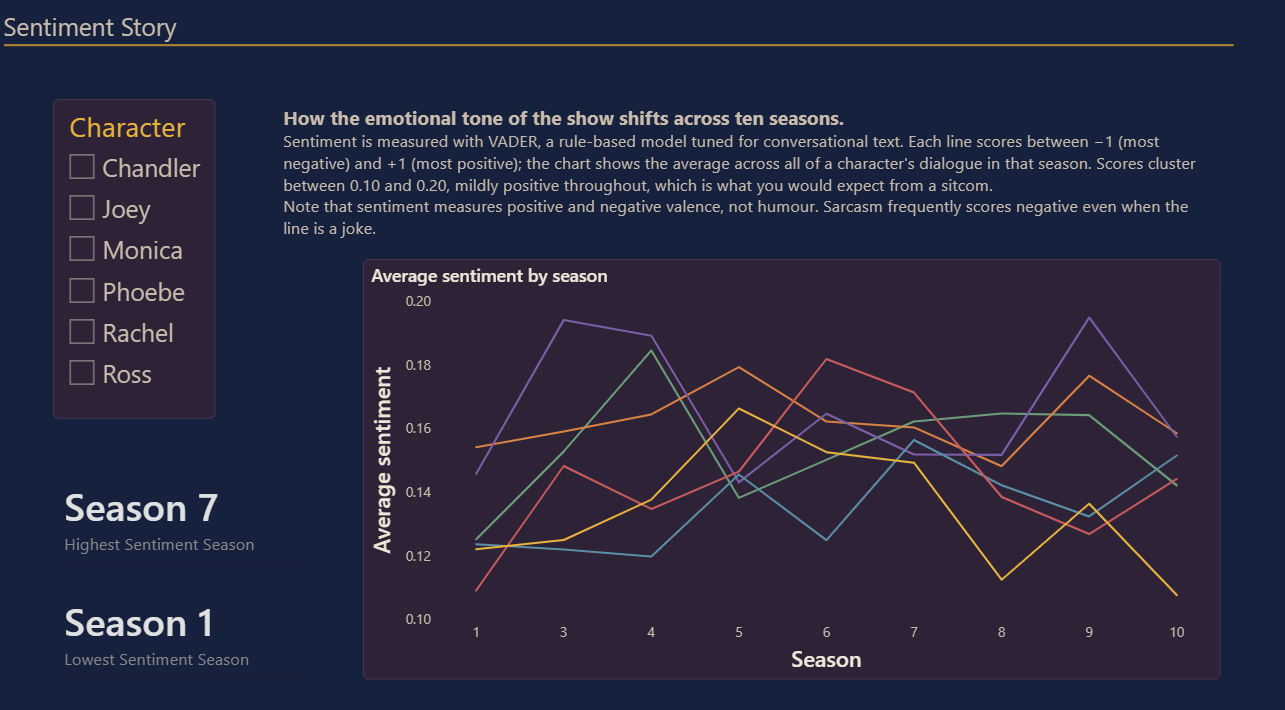

What the dashboard file says about the page in this screenshot:
{"tool":"powerbi","page":{"name":"Sentiment Story","canvas":[1280,720],"ordinal":2},"visuals":[{"type":"lineChart","title":"Average sentiment by season","fields":{"Category":["Dialogue.Season"],"Series":["Dialogue.Character"],"Y":["_Measures.Avg Sentiment Score"]},"box":[368.6,263.6,833.6,409.5],"z":0},{"type":"textbox","box":[13.6,15.6,211.1,68.1],"z":3000},{"type":"shape","box":[17.5,49.6,1200,12],"z":4000},{"type":"slicer","fields":{"Values":["DimCharacter.Name"]},"box":[67.1,108,157.6,311.2],"z":4001},{"type":"cardVisual","fields":{"Data":["_Measures.Highest Sentiment Season"]},"box":[66.1,468.8,251.9,92.4],"z":4002},{"type":"cardVisual","fields":{"Data":["_Measures.Lowest Sentiment Season"]},"box":[66.1,580.7,252.9,92],"z":4003},{"type":"textbox","box":[286,108,916.2,146.9],"z":4004}]}

Visuals, with their boxes in screenshot pixels (x1, y1, x2, y2), scaled from the page's 1280x720 canvas onto the 1285x710 screenshot:
"Average sentiment by season" lineChart: 370,260,1207,664
textbox: 14,15,226,83
shape: 18,49,1222,61
slicer - DimCharacter.Name: 67,106,226,413
cardVisual - _Measures.Highest Sentiment Season: 66,462,319,553
cardVisual - _Measures.Lowest Sentiment Season: 66,573,320,663
textbox: 287,106,1207,251
